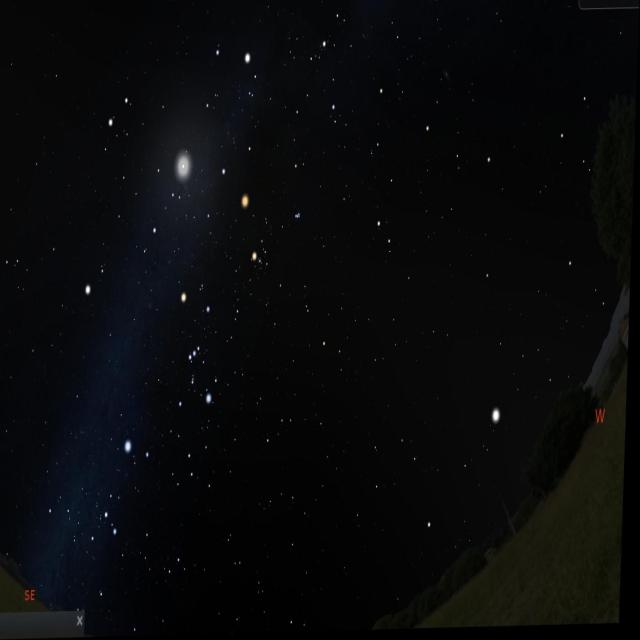canis_major: (98, 424, 156, 548)
canis_minor: (81, 256, 112, 312)
gemini: (101, 87, 187, 253)
moon: (160, 138, 198, 193)
orion: (172, 284, 228, 426)
pleiades: (290, 205, 309, 230)
taurus: (252, 193, 310, 284)
